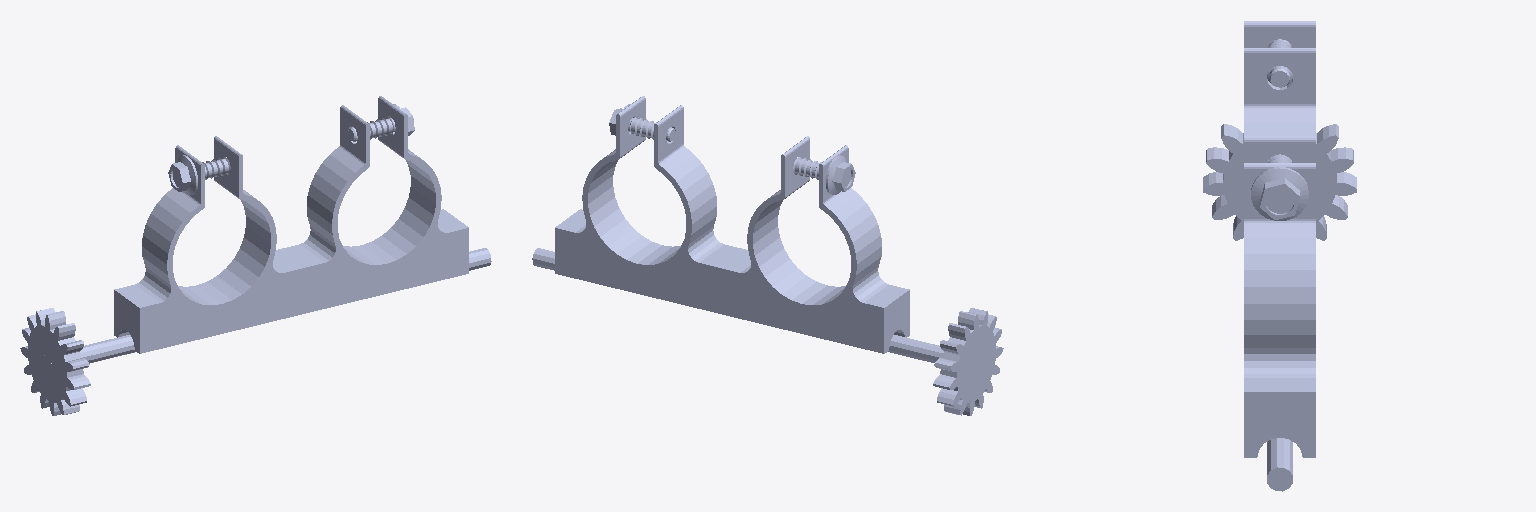
The robot description file, URDF, robot "nozzle revised 1010":
<?xml version="1.0" encoding="utf-8"?>
<!-- This URDF was automatically created by SolidWorks to URDF Exporter! Originally created by [author] ([email redacted]) 
     Commit Version: 1.6.0-1-g15f4949  Build Version: 1.6.7594.29634
     For more information, please see http://wiki.ros.org/sw_urdf_exporter -->
<robot
  name="nozzle revised 1010">
  <link
    name="upper nozzle 0101">
    <inertial>
      <origin
        xyz="0.164556086364158 -0.470822788929733 0.383503083705763"
        rpy="0 0 0" />
      <mass
        value="0.00486150876325971" />
      <inertia
        ixx="1.93738317208025E-07"
        ixy="-1.85098526321777E-16"
        ixz="7.45392875337019E-17"
        iyy="7.5367785725162E-07"
        iyz="-3.81636134626254E-16"
        izz="6.18895533193576E-07" />
    </inertial>
    <visual>
      <origin
        xyz="0 0 0"
        rpy="0 0 0" />
      <geometry>
        <mesh
          filename="package://nozzle revised 1010/meshes/upper nozzle 0101.STL" />
      </geometry>
      <material
        name="">
        <color
          rgba="0.792156862745098 0.819607843137255 0.933333333333333 1" />
      </material>
    </visual>
    <collision>
      <origin
        xyz="0 0 0"
        rpy="0 0 0" />
      <geometry>
        <mesh
          filename="package://nozzle revised 1010/meshes/upper nozzle 0101.STL" />
      </geometry>
    </collision>
  </link>
</robot>

--- Facts derived from the render (not from the file) ---
3 views of the same robot in one strip: view 1: azimuth 30°, elevation 25°; view 2: azimuth 150°, elevation 25°; view 3: azimuth 270°, elevation 25° (orthographic).
Robot: nozzle revised 1010 — 1 links, 0 joints (none); root link upper nozzle 0101; default pose: all joints at 0.
Visible links, largest first — view 1: upper nozzle 0101; view 2: upper nozzle 0101; view 3: upper nozzle 0101.
Boxes of the visible links, left/top/right/bottom form: upper nozzle 0101: left=20, top=96, right=491, bottom=415; upper nozzle 0101: left=532, top=96, right=1003, bottom=415; upper nozzle 0101: left=1203, top=21, right=1356, bottom=491.
Bounding box of the posed robot: 0.08 × 0.0169 × 0.0388 m (x, y, z).
1 mesh visuals loaded from 1 distinct referenced files (1 binary STL).